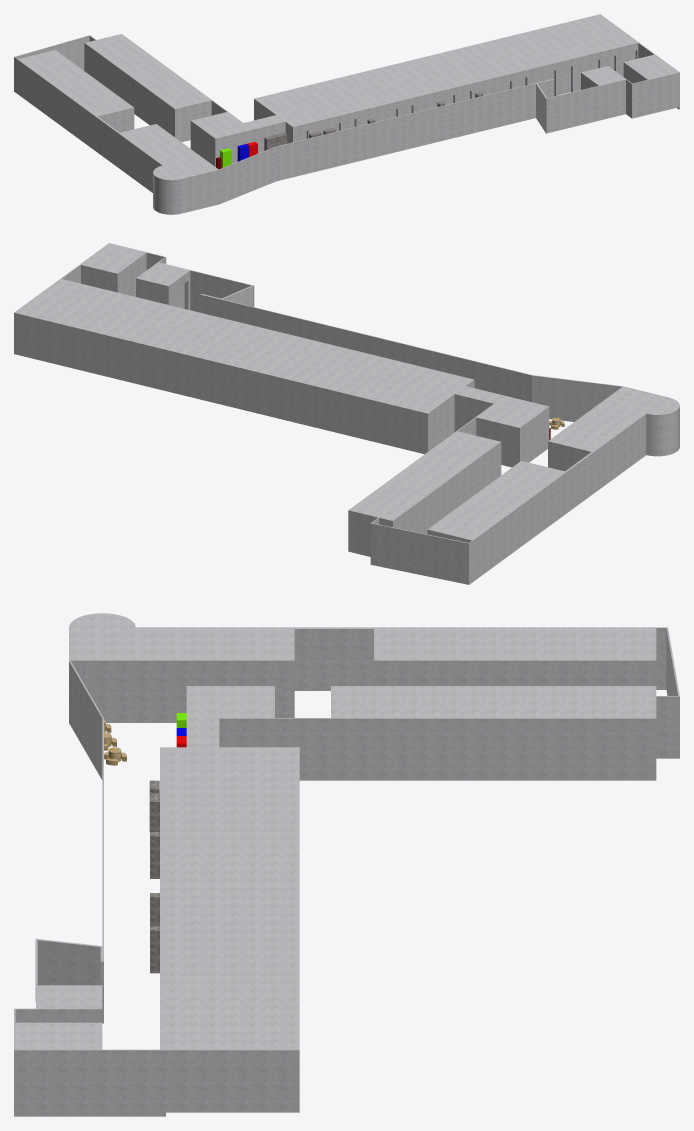
The model's file is Block.dae.
The picture shows the model from 3 angles, top to bottom: view 1: azimuth 30°, elevation 25°; view 2: azimuth 150°, elevation 25°; view 3: azimuth 270°, elevation 25°; orthographic projection. The views are drawn at different scales.
Parts seen in each view (by area): view 1: PlayUp_Block; view 2: PlayUp_Block; view 3: PlayUp_Block.
Boxes of the visible parts, <box> form: PlayUp_Block: <box>14,14,679,214</box>; PlayUp_Block: <box>14,243,679,584</box>; PlayUp_Block: <box>14,613,679,1116</box>.
Size of the model in its own units: 78.72 by 5.57 by 50.68.
